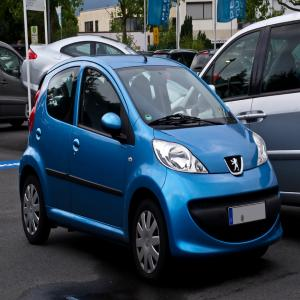Vehicle-registration-plate: (229, 201, 267, 228)
